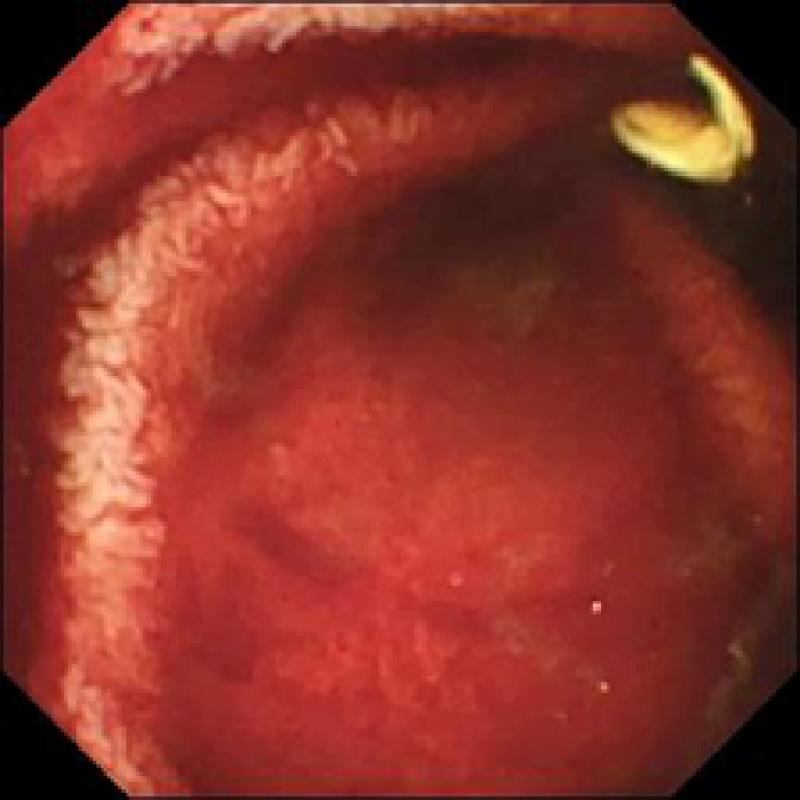bleeding: (0, 35, 750, 800)
